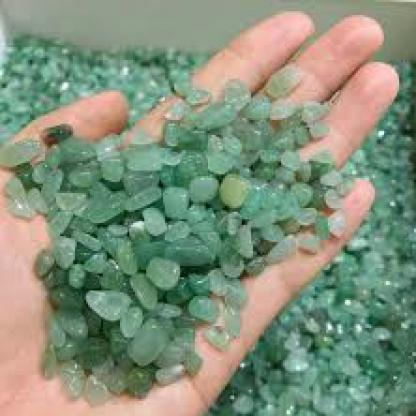Metamorphic_Quartize: (86, 279, 133, 334), (139, 249, 182, 294), (212, 167, 256, 206), (154, 182, 195, 223), (172, 118, 214, 156), (98, 148, 131, 191)
